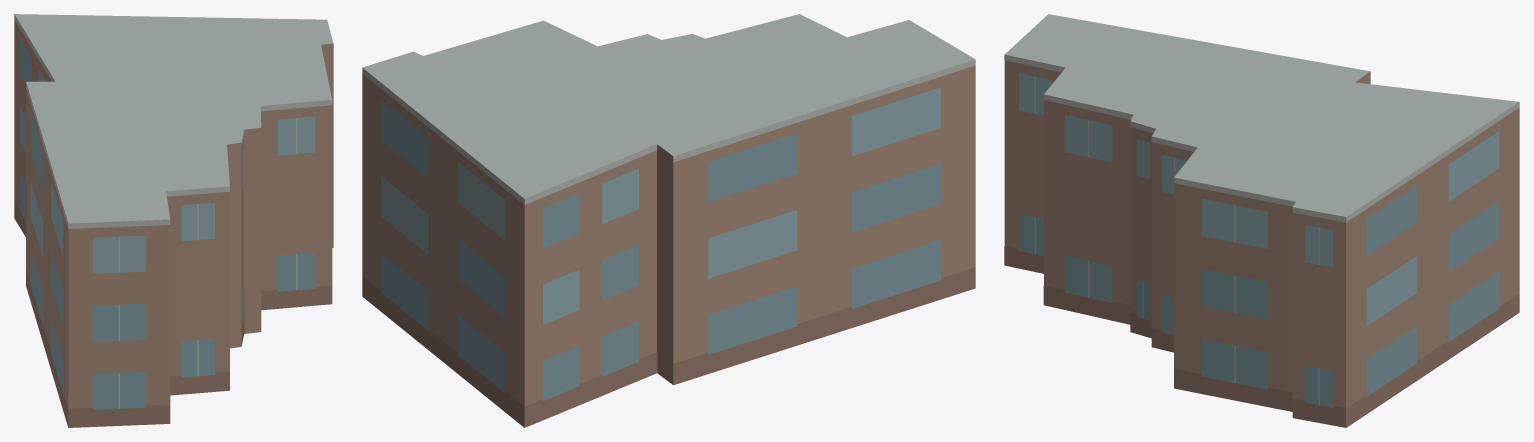
Rendered from survey-upis-32649056.glb.
3 views of the same model, side by side, from view 1: azimuth 30°, elevation 25°; view 2: azimuth 150°, elevation 25°; view 3: azimuth 270°, elevation 25° (orthographic). The views are drawn at different scales.
Visible parts, largest first — view 1: survey-upis-32649056.tmp; view 2: survey-upis-32649056.tmp; view 3: survey-upis-32649056.tmp.
Part boxes in pixels (box(x1,y1,x2,y2)): survey-upis-32649056.tmp: box(14, 14, 333, 427); survey-upis-32649056.tmp: box(362, 14, 975, 427); survey-upis-32649056.tmp: box(1004, 14, 1519, 427).
Size of the model in its own units: 18.9 by 9.15 by 20.26.
